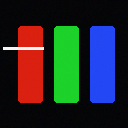3 line_h: (3, 47, 43, 49)
